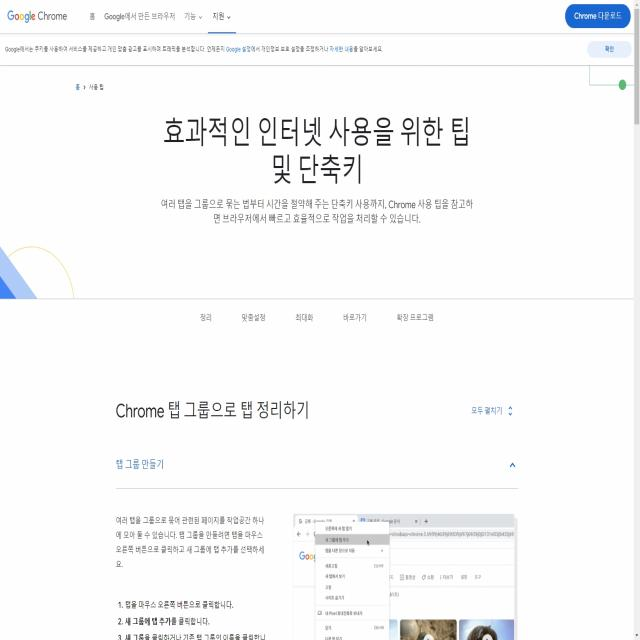menu-bar: (82, 2, 238, 34)
menu-panel: (188, 299, 446, 336)
